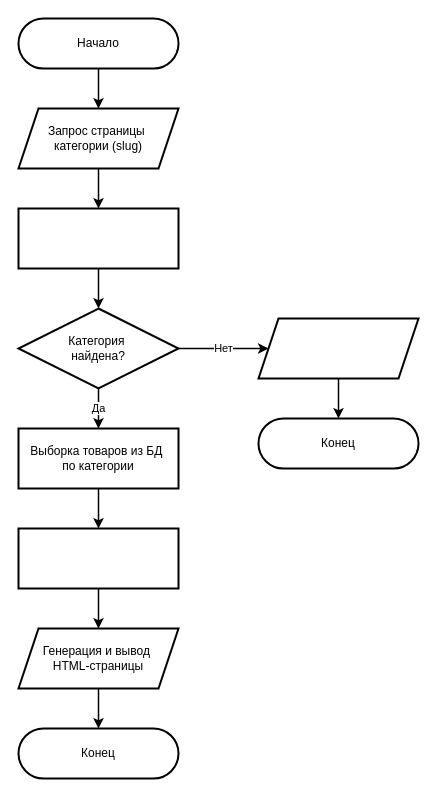
Some shapes in this 436 by 796 pixel diagram are drawn without their labels. Each missing label, with the centre of its shape:
Вывод ошибки 404 (Страница не найдена): (338,348)
Поиск категории в БД по параметру slug: (98,238)
Формирование контекста данных: (98,558)
